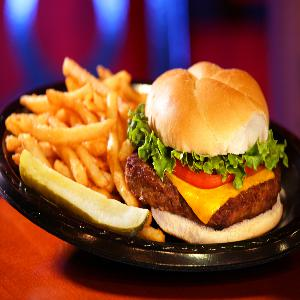cheeseburger_475cal: (150, 33, 291, 250)
fries_350cal: (11, 58, 144, 201)
